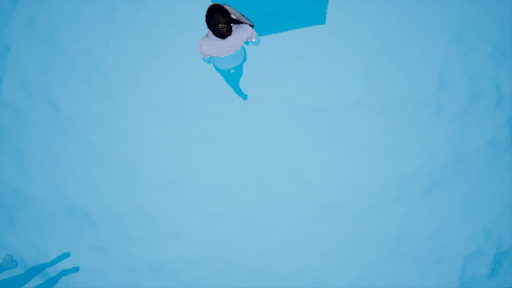person: (181, 1, 267, 105)
